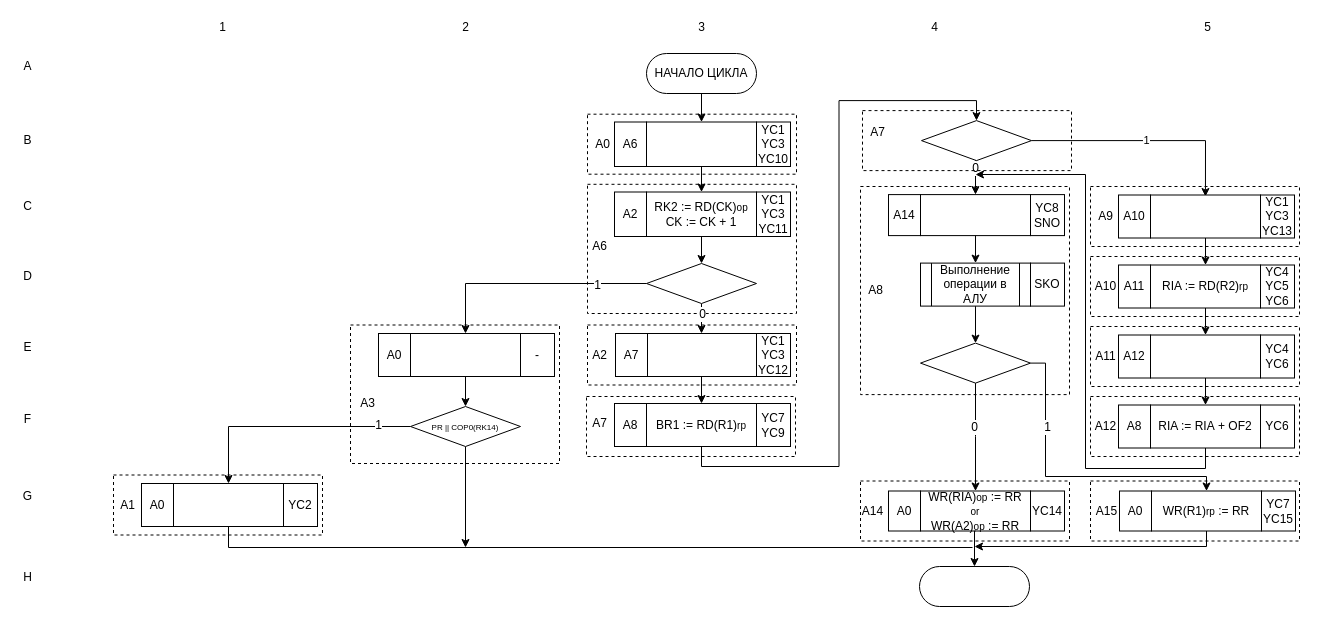
This 1317x624 diagram has some shape labels left out. Here are the shapes that lost their labels. From the top down, the centre of each, then its label:
the point at 701,143: RK1 := RD(CK) op CK := CK + 1
the point at 976,140: PA2(RK9)
the point at 975,215: BR2 := RD(RIA) op or BR2 := RD(A2) op
the point at 1205,216: RK4 := RD(CK) op CK := CK + 1
the point at 701,283: COP1(RK15)
the point at 465,354: NOP
the point at 701,354: RK3 := RD(CK) op CK := CK + 1
the point at 975,362: COP0(RK14)
the point at 1205,356: RIA := RD(RIA) op
the point at 228,504: CK := CK + SM
the point at 974,586: КОНЕЦ ЦИКЛА
